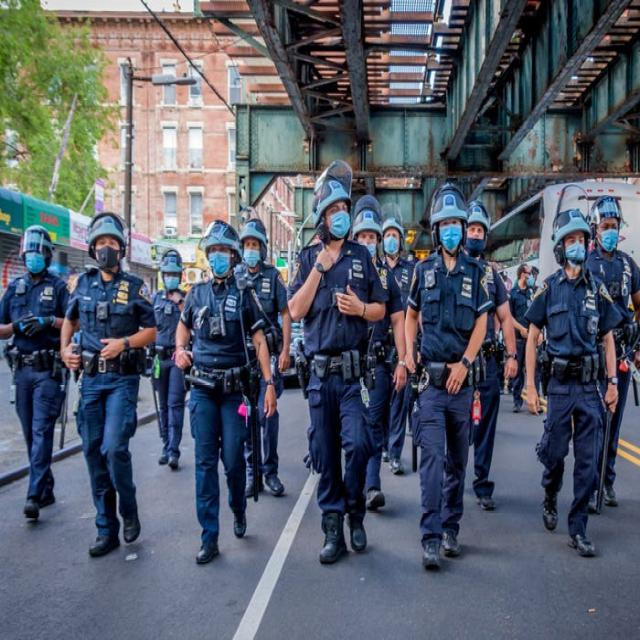police: (283, 154, 398, 580), (528, 183, 640, 575), (172, 203, 285, 590), (398, 162, 496, 598), (59, 203, 160, 576), (0, 204, 81, 553)
